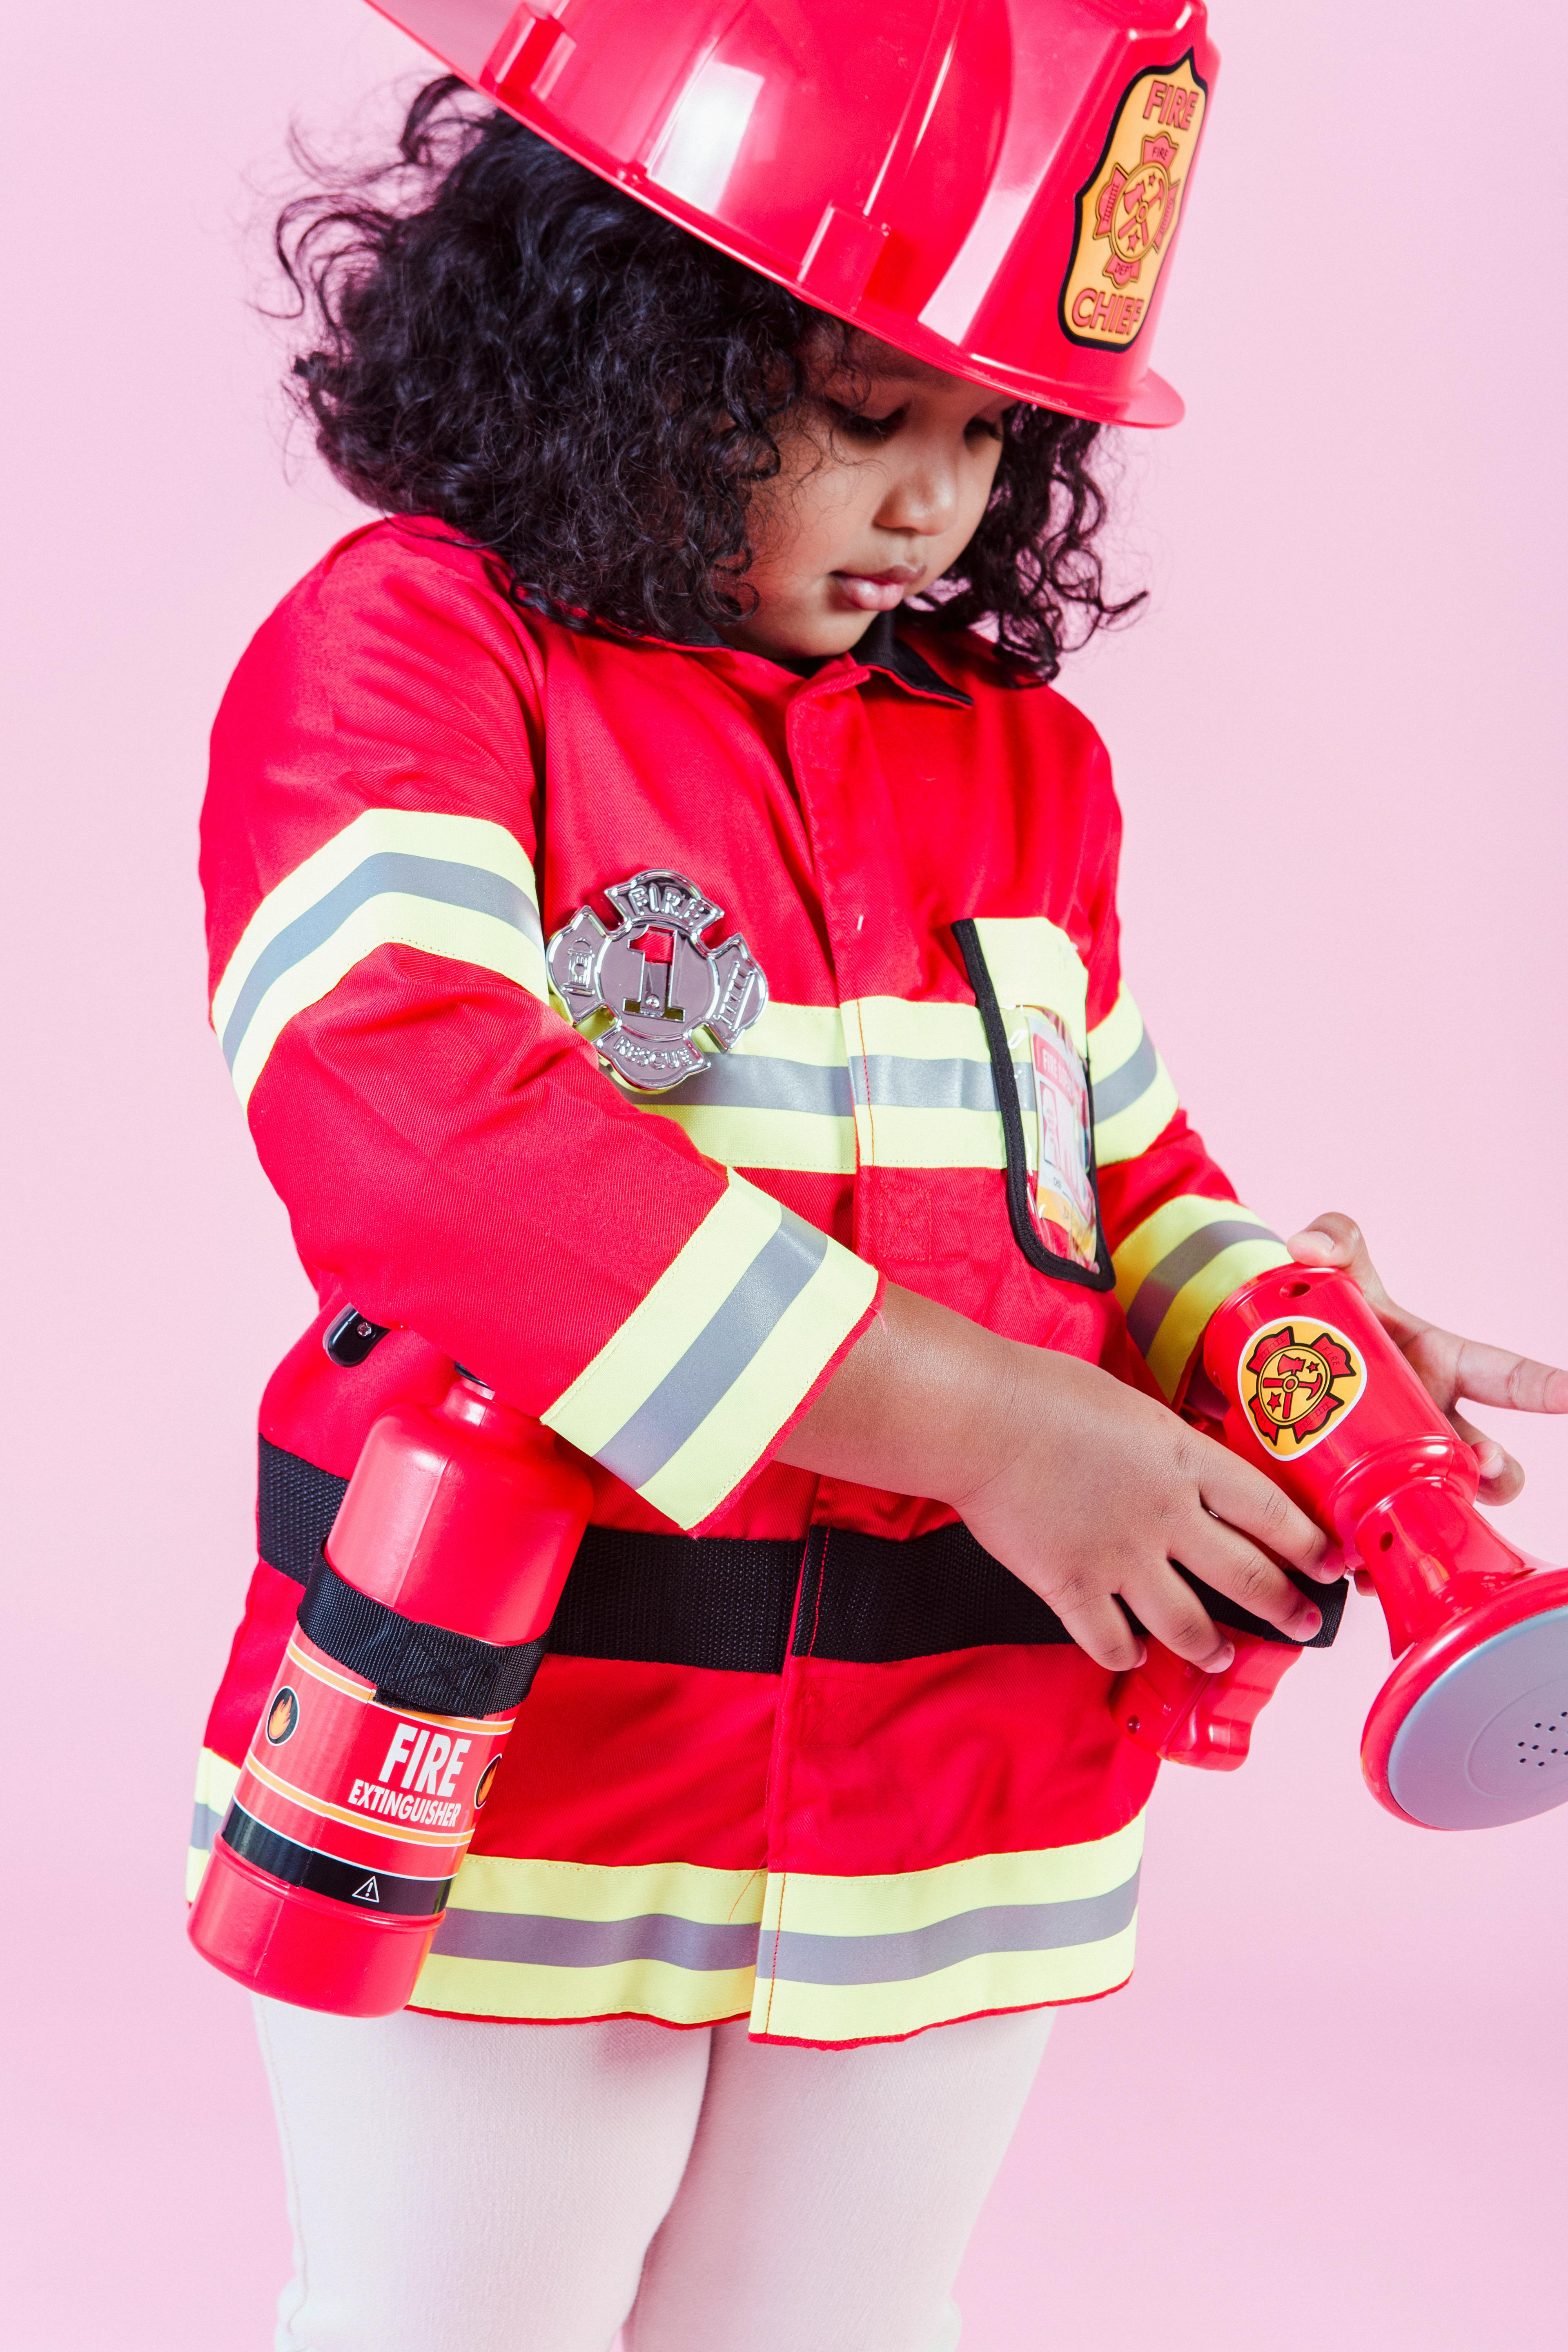extintor: (198, 1302, 598, 2026)
